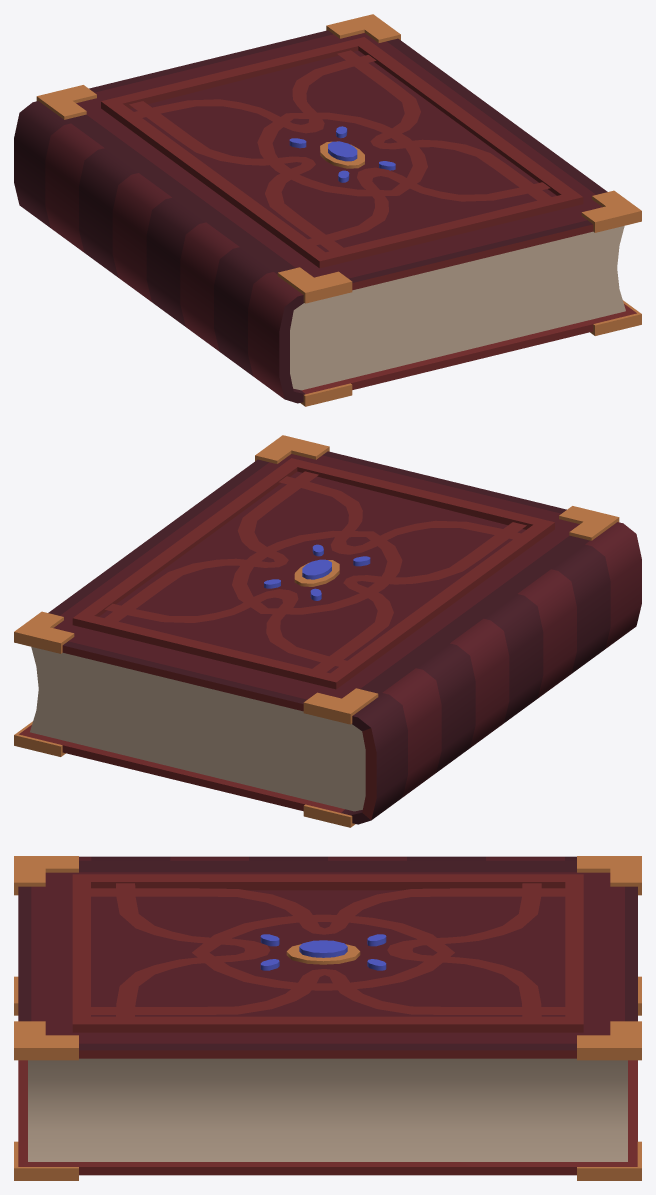
Rendered from Book_09.fbx.
The picture shows the model from 3 angles, top to bottom: view 1: azimuth 30°, elevation 25°; view 2: azimuth 150°, elevation 25°; view 3: azimuth 270°, elevation 25°; orthographic projection. The views are drawn at different scales.
Parts seen in each view (by area): view 1: Book_09; view 2: Book_09; view 3: Book_09.
Part boxes in pixels (x1=…): Book_09: x1=14, y1=14, x2=641, y2=406; Book_09: x1=14, y1=435, x2=641, y2=827; Book_09: x1=14, y1=856, x2=641, y2=1180.
Bounding box in the file's own units: 0.2575 × 0.0837 × 0.3322.
